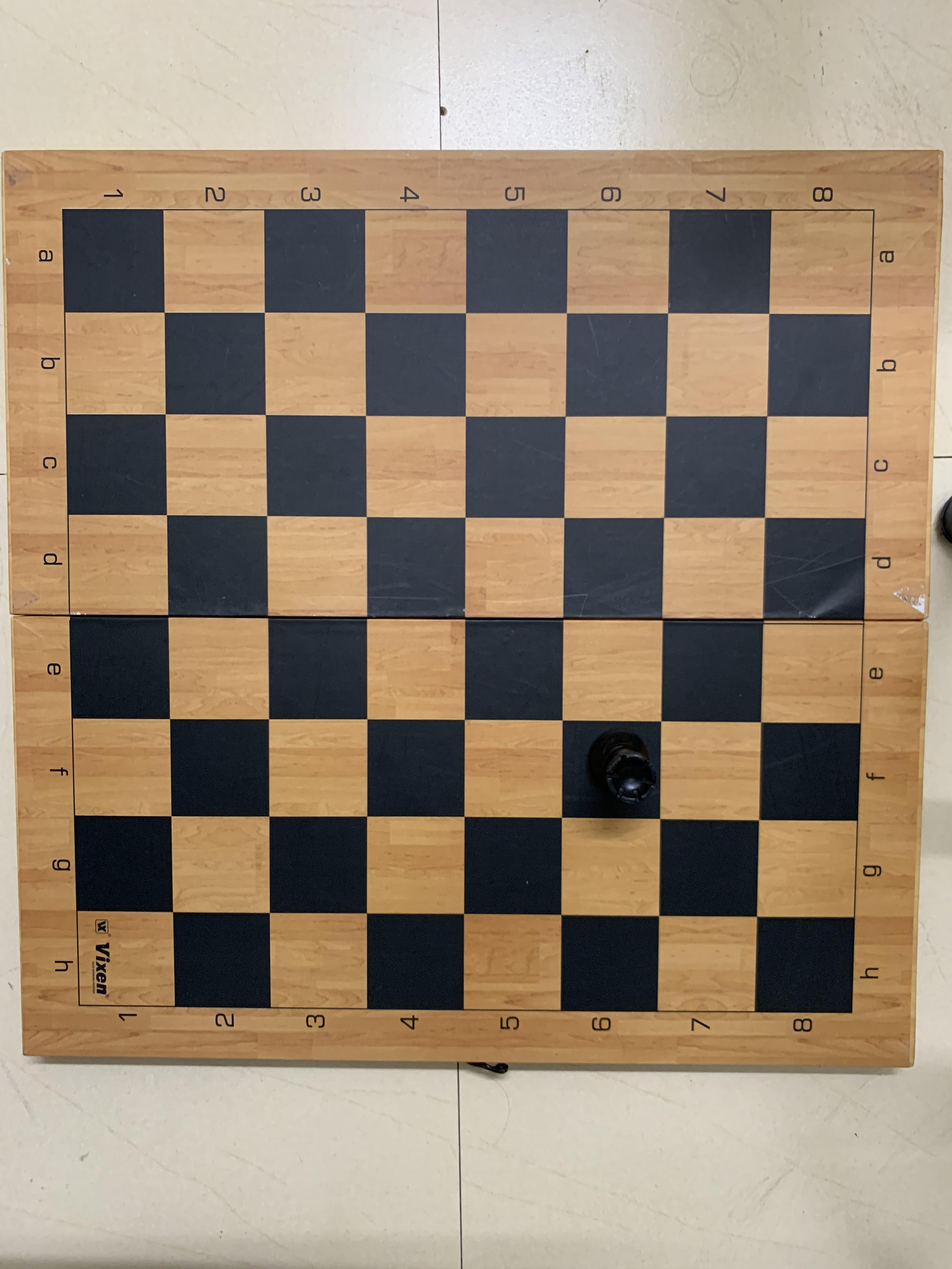black_rook: (564, 716, 662, 822)
